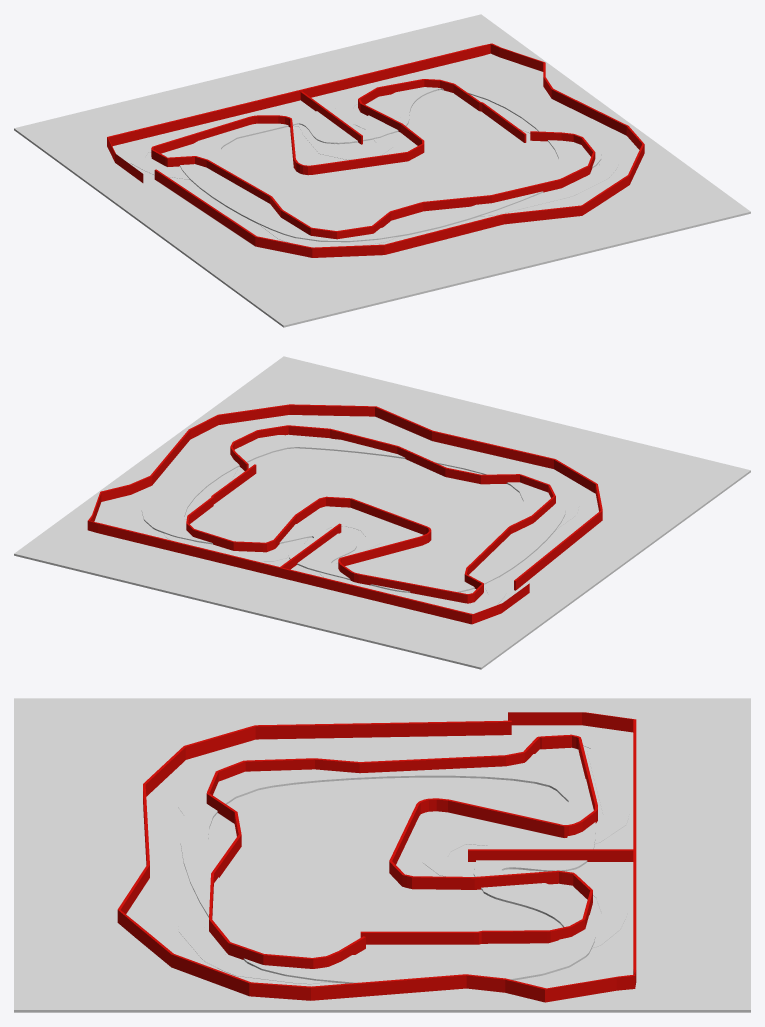
The model's file is simple-track.fbx.
The picture shows the model from 3 angles, top to bottom: view 1: azimuth 30°, elevation 25°; view 2: azimuth 150°, elevation 25°; view 3: azimuth 270°, elevation 25°; orthographic projection. The views are drawn at different scales.
Visible parts, largest first — view 1: ground, road, wall, wall-inner, road-2; view 2: ground, road, wall, wall-inner, road-2; view 3: ground, road, wall-inner, wall, road-2.
Part boxes in pixels (bbox=[...]): ground: bbox=[14, 14, 750, 327]; road: bbox=[178, 76, 601, 242]; wall: bbox=[107, 43, 644, 257]; wall-inner: bbox=[151, 79, 595, 239]; road-2: bbox=[129, 78, 618, 247]; ground: bbox=[14, 356, 750, 669]; road: bbox=[141, 435, 565, 592]; wall: bbox=[87, 404, 602, 624]; wall-inner: bbox=[186, 425, 555, 603]; road-2: bbox=[164, 425, 579, 613]; ground: bbox=[14, 698, 750, 1012]; road: bbox=[180, 748, 596, 983]; wall-inner: bbox=[206, 734, 633, 968]; wall: bbox=[117, 712, 636, 1002]; road-2: bbox=[178, 732, 629, 984].
Bounding box in the file's own units: 50000 × 1452 × 50000.
